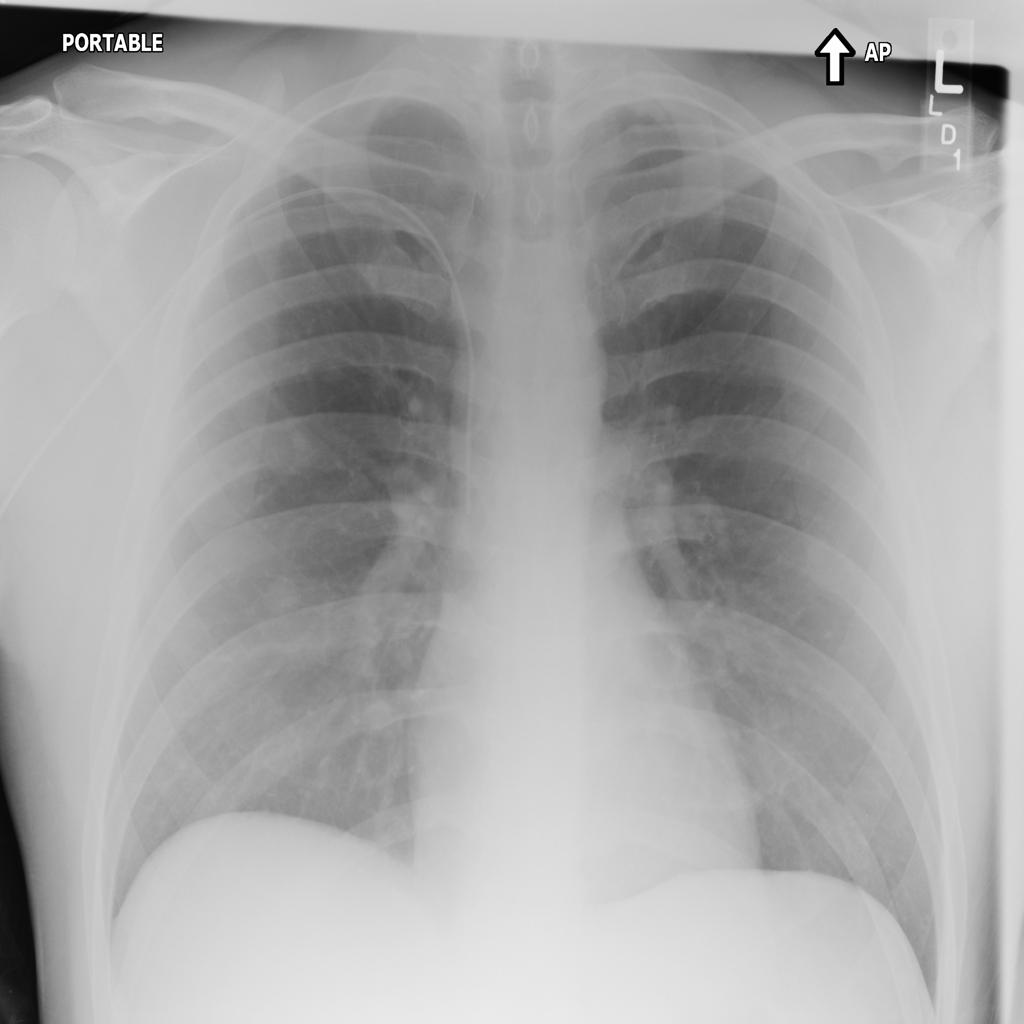nodule: (245, 563, 319, 632)
